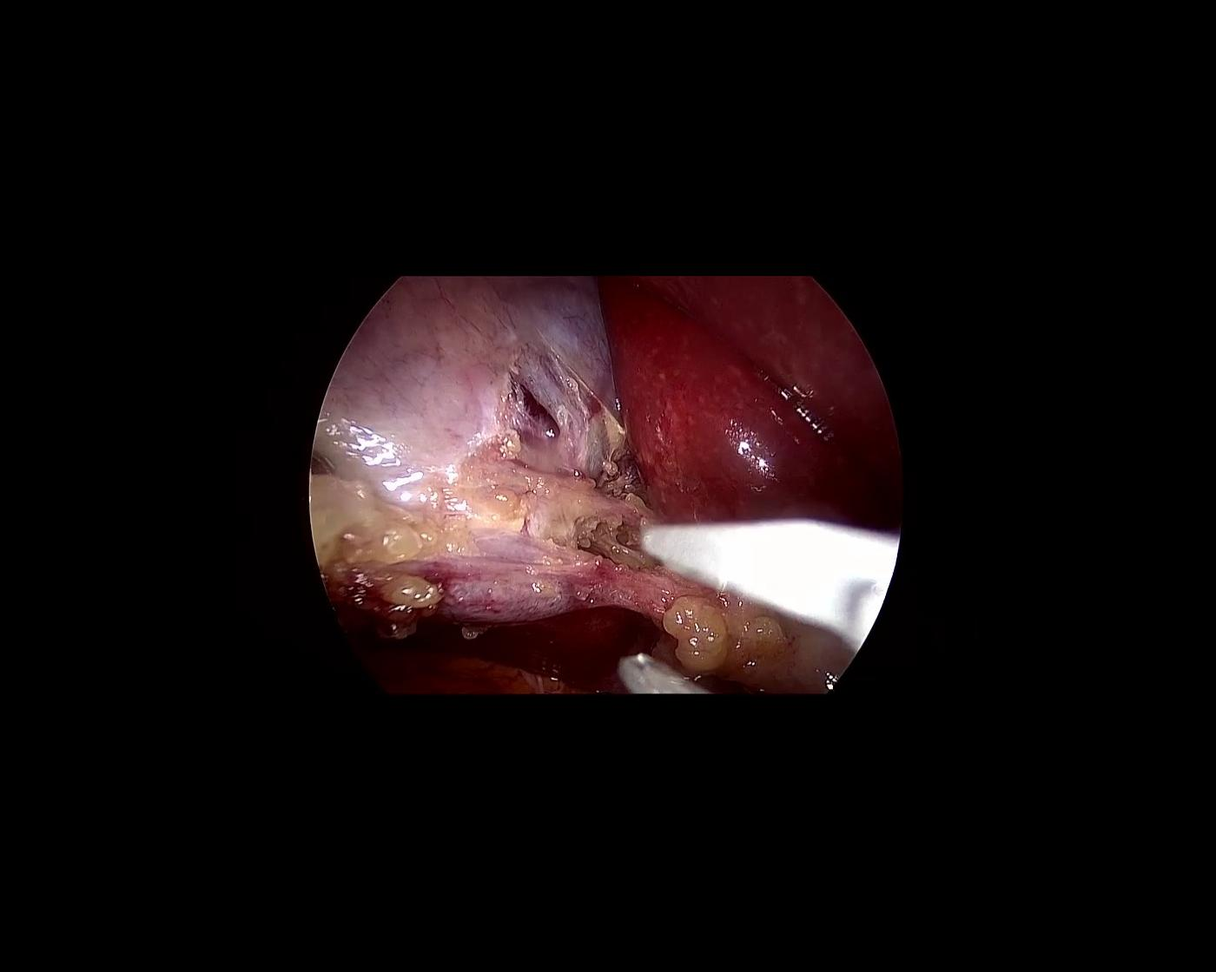Gallbladder: (310, 275, 627, 626)
Liver: (599, 273, 897, 536)
